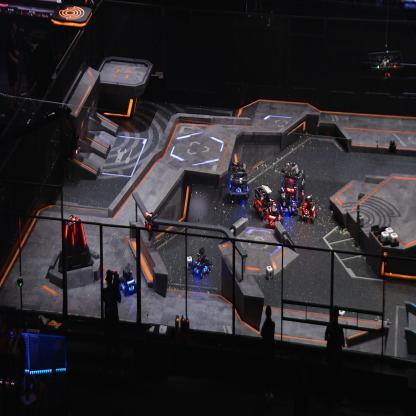car: (280, 161, 307, 206), (228, 161, 249, 203), (253, 184, 276, 219), (118, 262, 138, 298), (297, 194, 318, 225), (191, 247, 212, 277), (278, 188, 298, 217), (265, 201, 284, 228)
